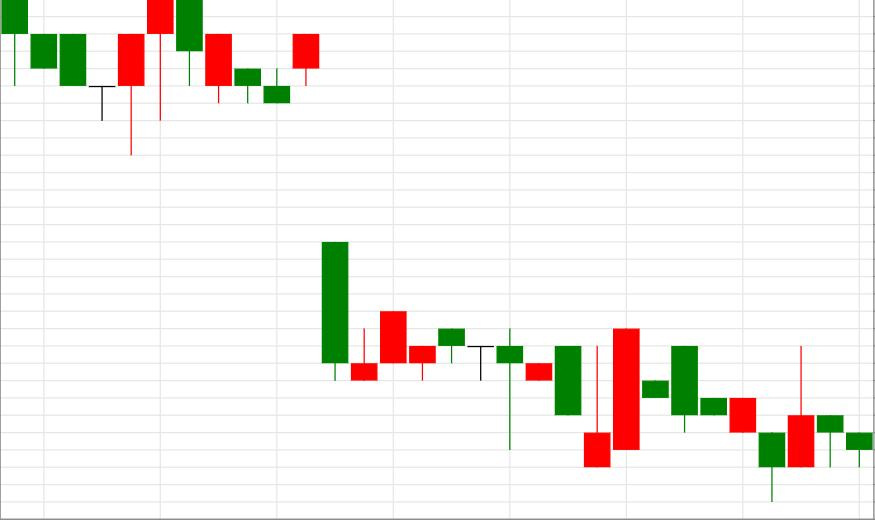inverse_hammer_rise: (438, 328, 611, 467)
